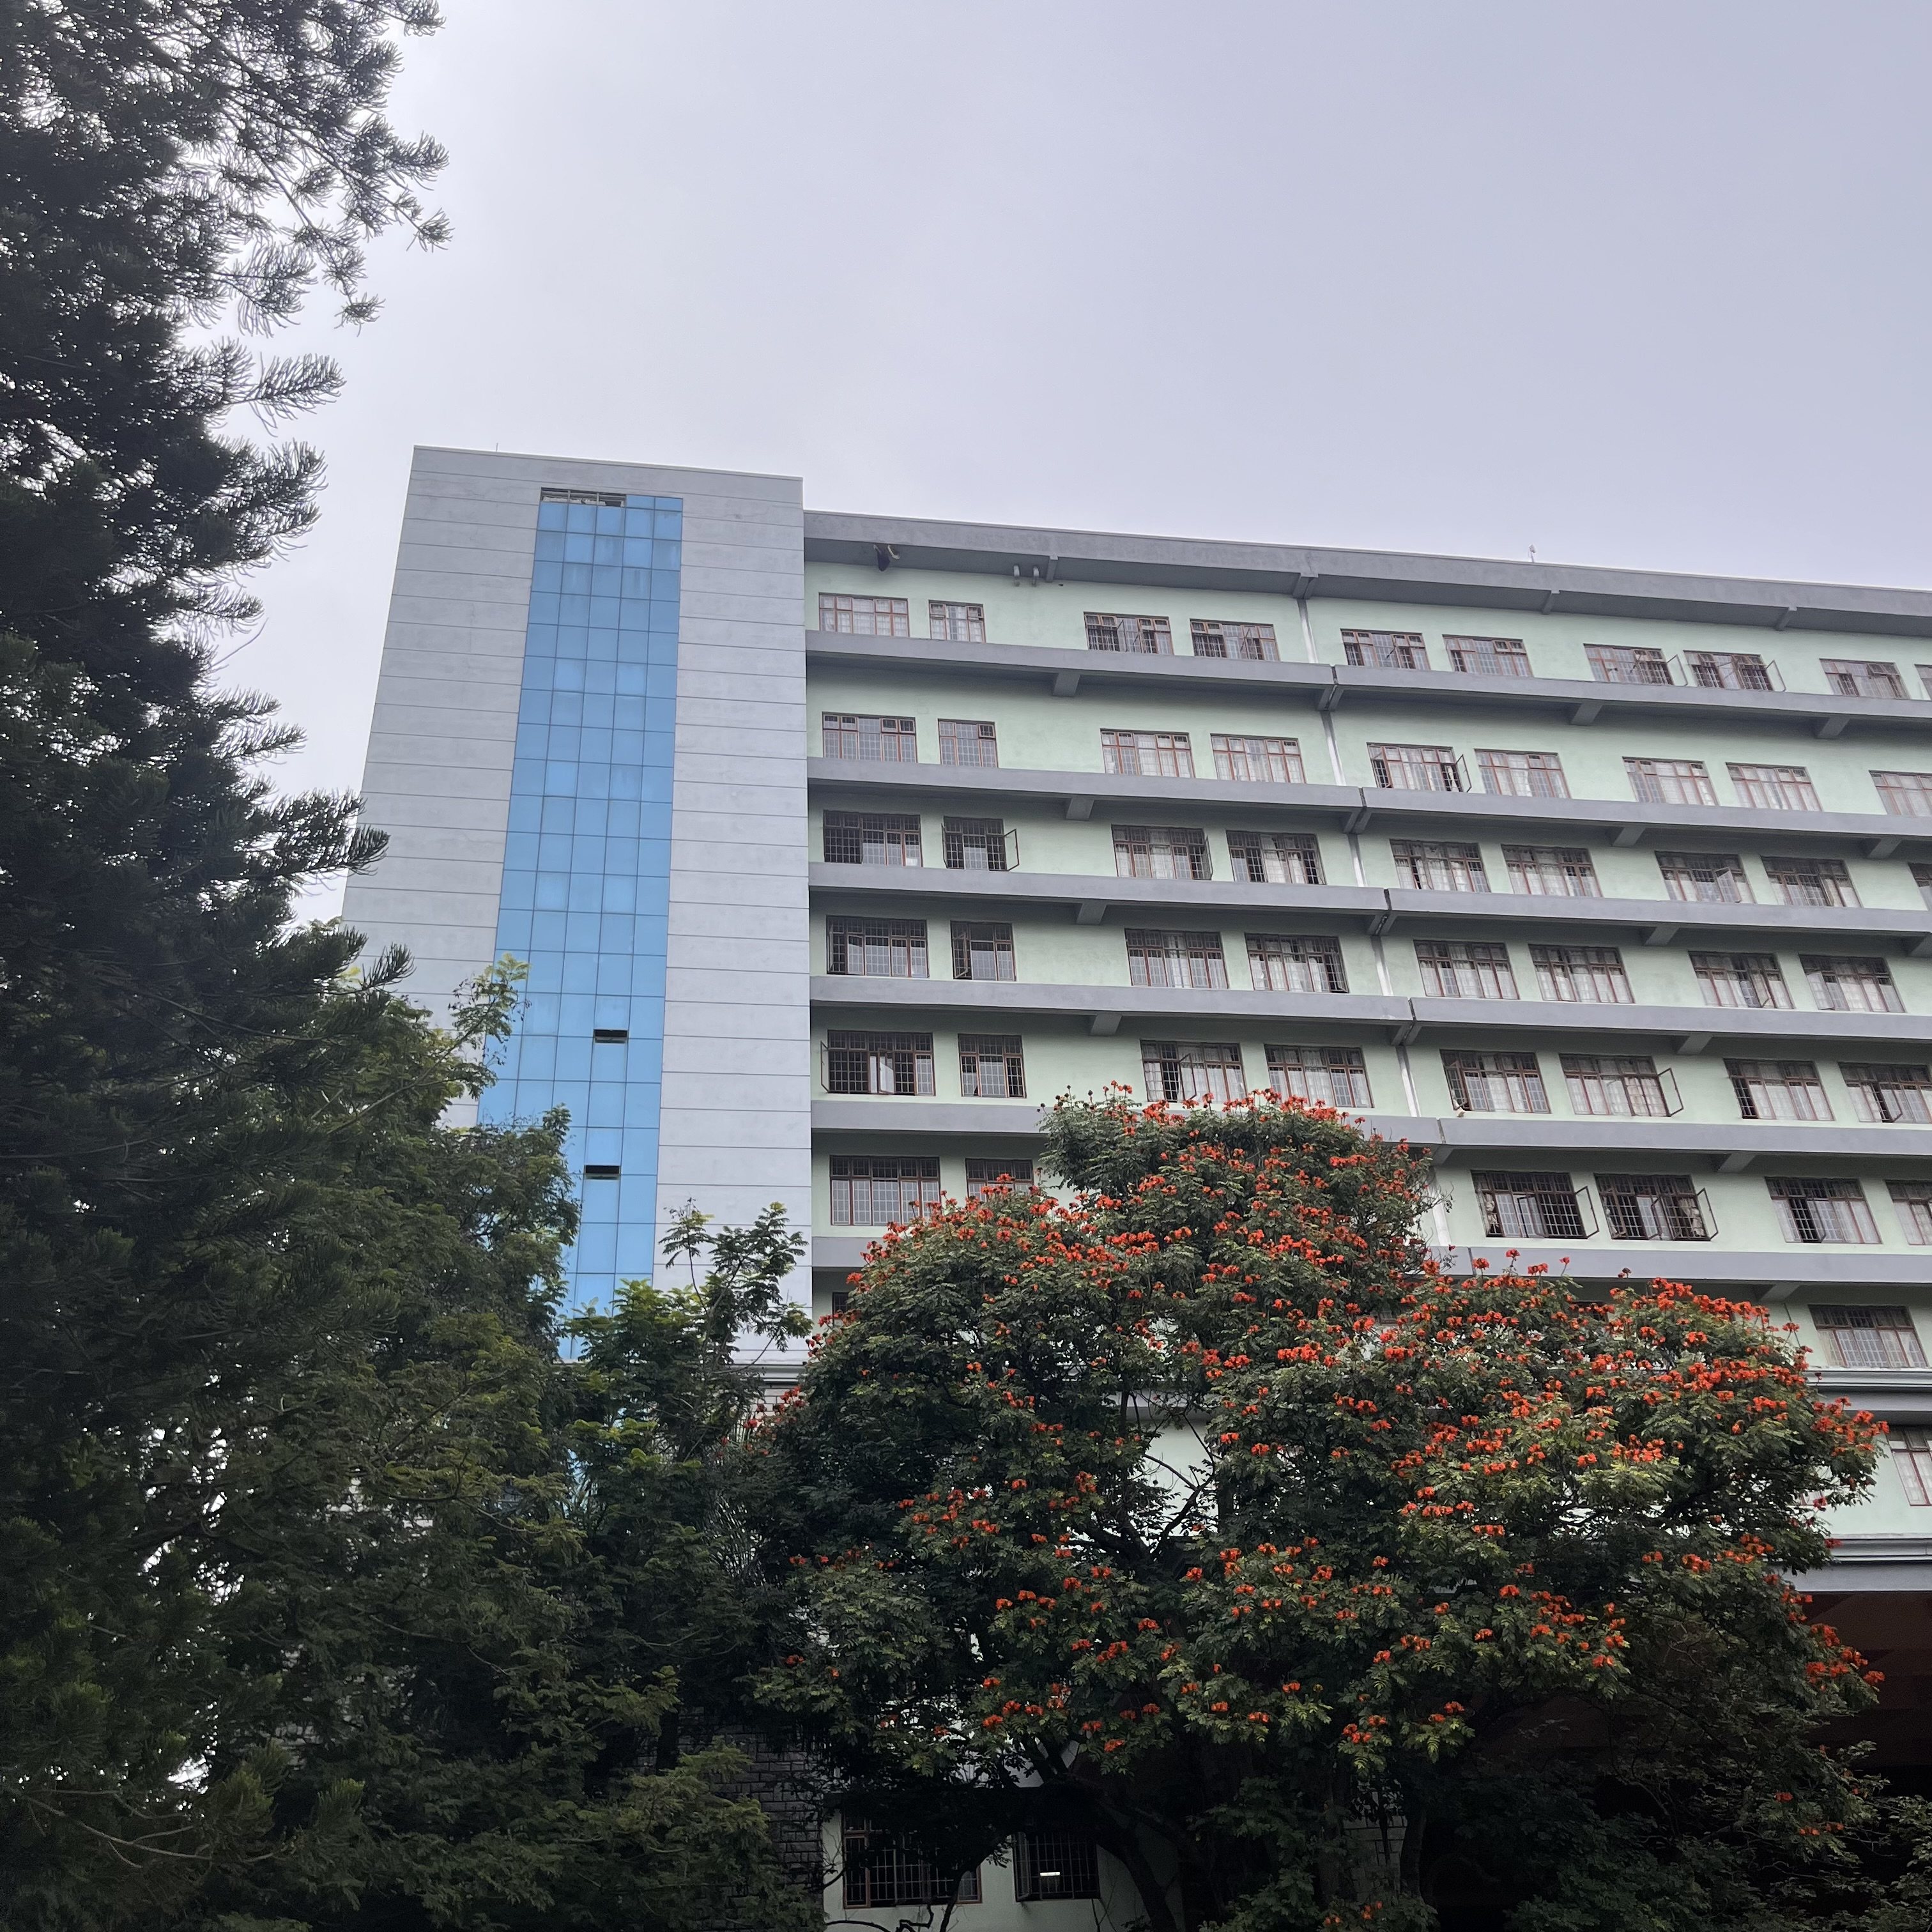Central Block: (386, 391, 1932, 1599)
